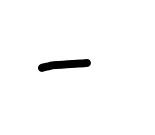minus: (38, 59, 91, 72)
